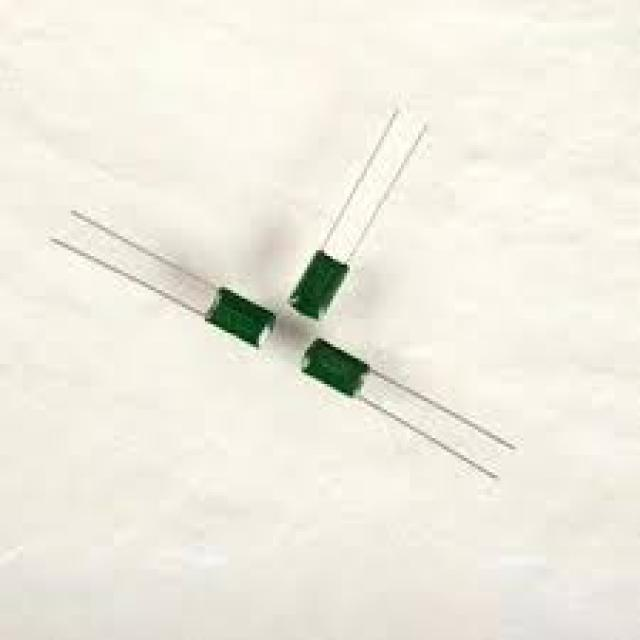Capacitor: (54, 210, 276, 350), (304, 341, 518, 481), (287, 111, 424, 321)
